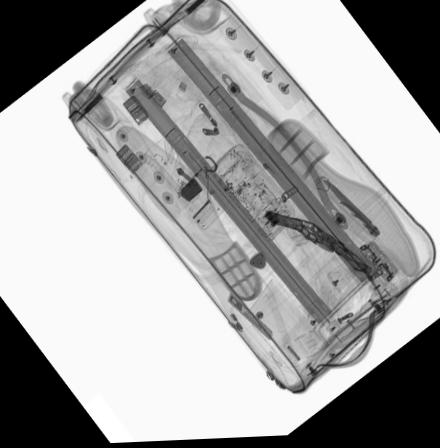Knife: (309, 181, 380, 240)
